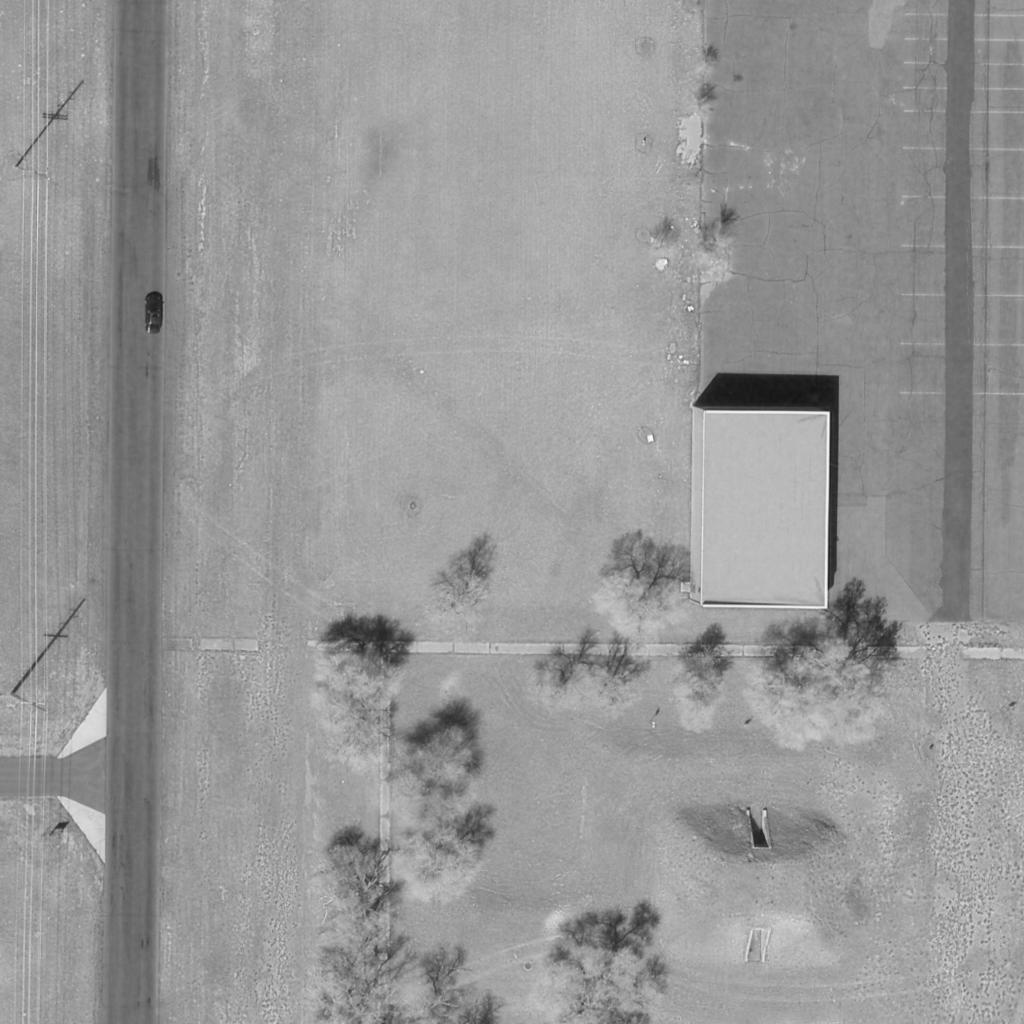vehicle: (145, 292, 163, 334)
